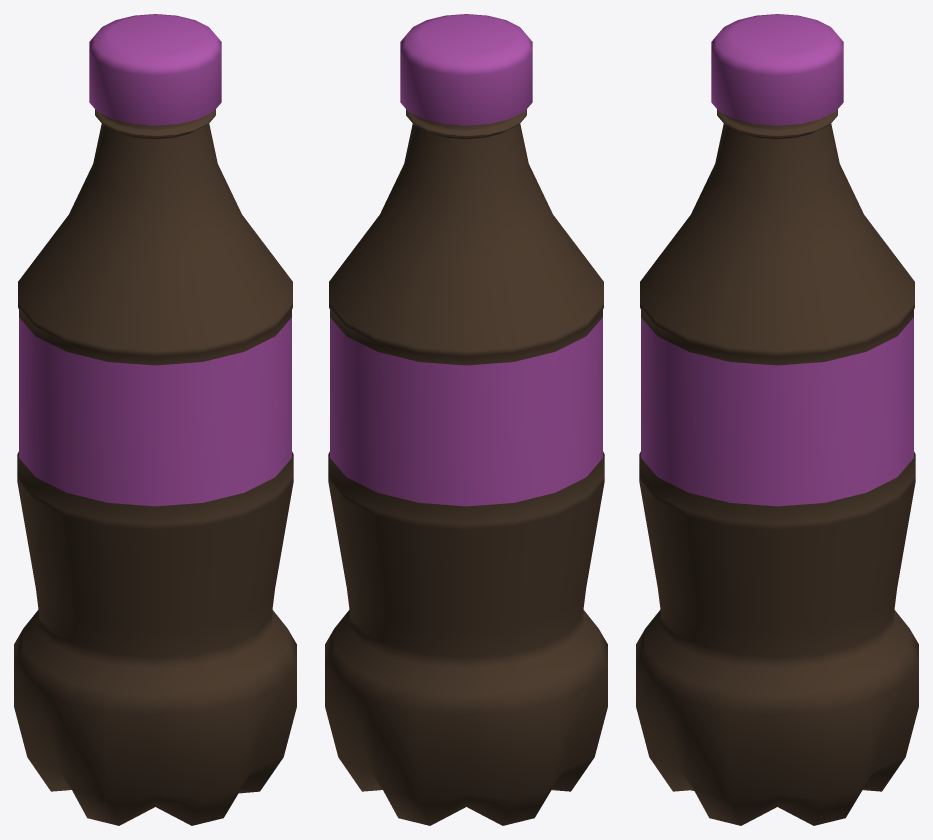
The model's file is soda_bottle_nonuv.fbx.
3 renders of one model, left to right at view 1: azimuth 30°, elevation 25°; view 2: azimuth 150°, elevation 25°; view 3: azimuth 270°, elevation 25°, orthographic.
Parts seen in each view (by area): view 1: bottle; view 2: bottle; view 3: bottle.
Boxes of the visible parts, left/top/right/bottom form: bottle: left=14, top=14, right=296, bottom=825; bottle: left=325, top=14, right=607, bottom=825; bottle: left=636, top=14, right=918, bottom=825.
Bounding box in the file's own units: 0.091 × 0.2617 × 0.0896.
